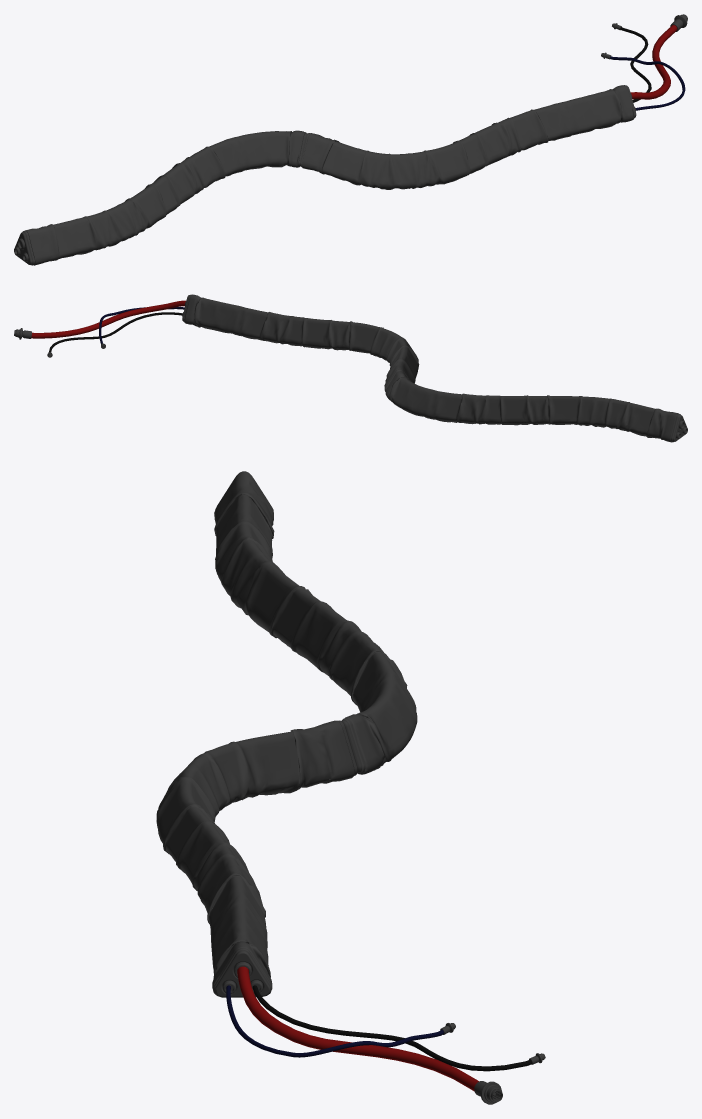
File: SM_Wire01_LineStyle01.FBX
3 views of the same model, one above another, from view 1: azimuth 30°, elevation 25°; view 2: azimuth 150°, elevation 25°; view 3: azimuth 270°, elevation 25° (orthographic). The views are drawn at different scales.
Parts seen in each view (by area): view 1: SM_Wire01_LineStyle01; view 2: SM_Wire01_LineStyle01; view 3: SM_Wire01_LineStyle01.
Part boxes in pixels (x1=…): SM_Wire01_LineStyle01: x1=14, y1=14, x2=687, y2=265; SM_Wire01_LineStyle01: x1=14, y1=294, x2=687, y2=442; SM_Wire01_LineStyle01: x1=156, y1=471, x2=545, y2=1104.
Bounding box in the file's own units: 444 × 123 × 20.22.
